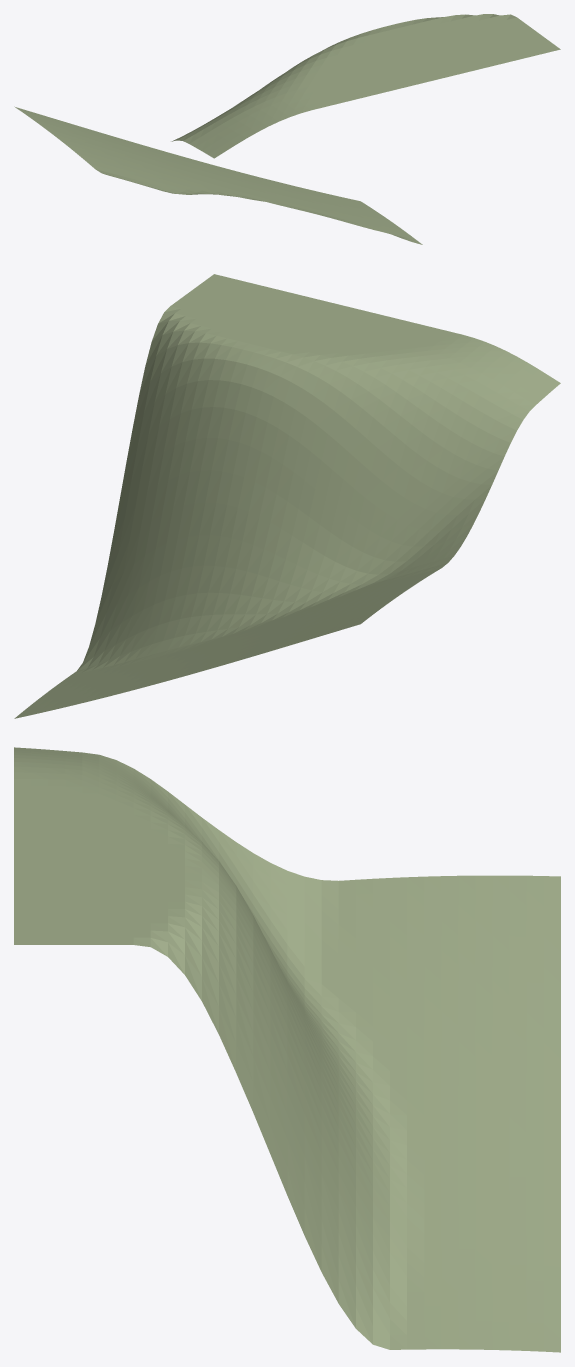
Rendered from alpine-11-2.glb.
The picture shows the model from 3 angles, top to bottom: view 1: azimuth 30°, elevation 25°; view 2: azimuth 150°, elevation 25°; view 3: azimuth 270°, elevation 25°; orthographic projection. The views are drawn at different scales.
Parts seen in each view (by area): view 1: alpine-11-2; view 2: alpine-11-2; view 3: alpine-11-2.
Part boxes in pixels (x1,y1,x2,y2): alpine-11-2: (14, 14, 560, 244); alpine-11-2: (14, 274, 560, 718); alpine-11-2: (14, 747, 560, 1352).
Bounding box in the file's own units: 256 × 210 × 256.
